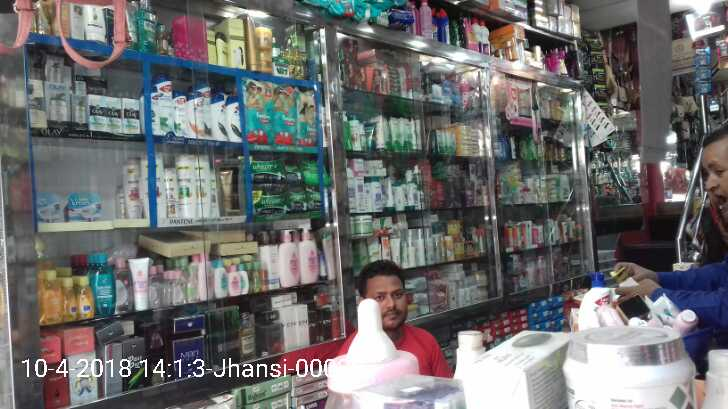venus: (69, 191, 100, 221), (37, 190, 65, 222)
